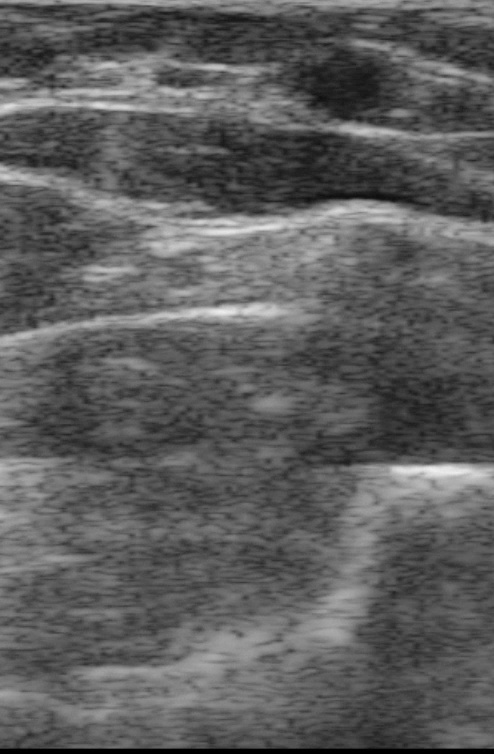veins_detect: (282, 40, 403, 129)
veins_seg: (294, 44, 392, 118)
